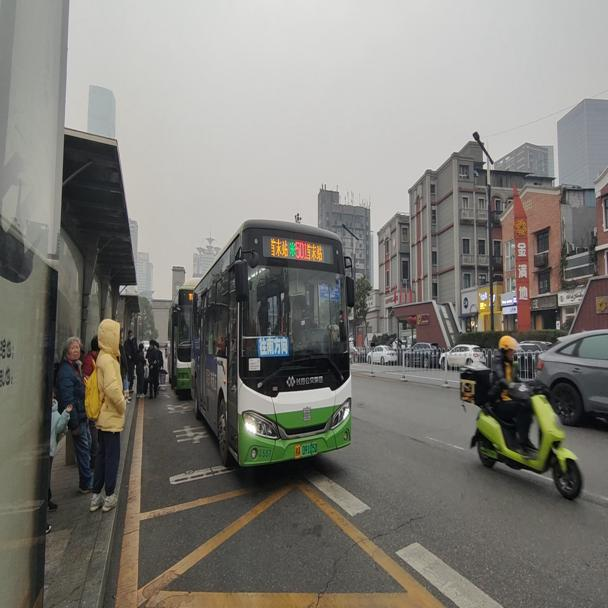bus: (191, 216, 352, 465), (167, 288, 191, 389)
screen: (294, 234, 308, 261)
